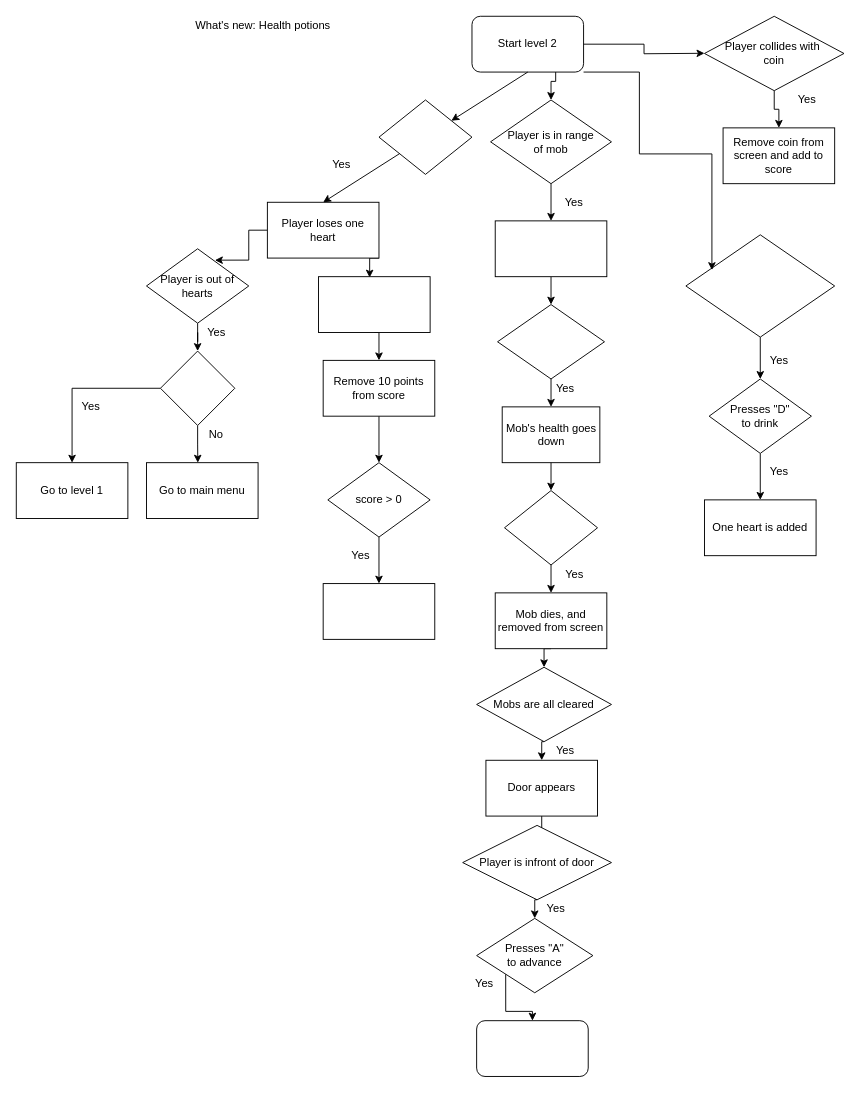
Some shapes in this 860 by 1093 pixel diagram are drawn without their labels. The shapes that lost their labels are listed below. From the top down, each one's centre as x and y in pixels, then its label:
pixel 425 136: Mob hits player
pixel 550 248: Player is able to attack mob
pixel 374 304: 5 second cooldown
pixel 760 285: Player is infront of health potion
pixel 550 341: Attack
pixel 197 387: Play again?
pixel 551 527: Mob health <= 0?
pixel 378 611: Make score = 0
pixel 532 1048: Advance to level 3
